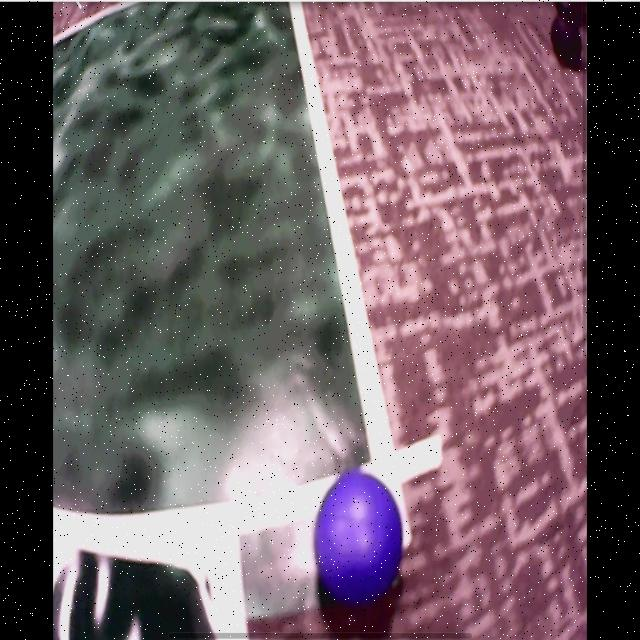ball: (316, 470, 405, 604)
